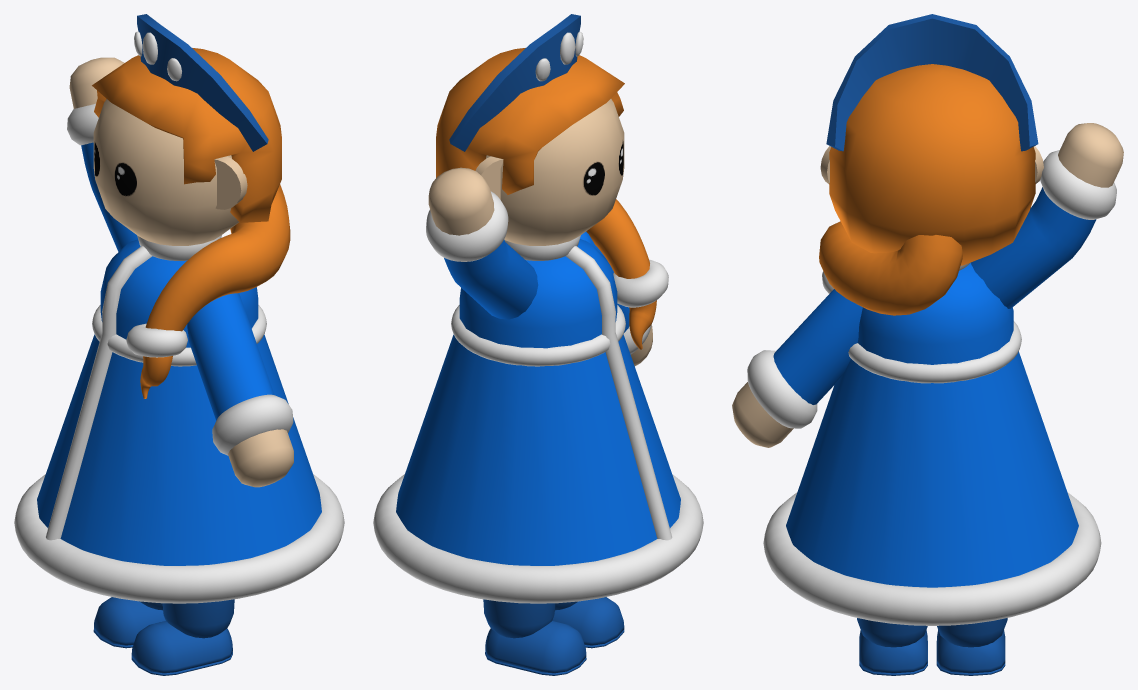
The picture shows the model from 3 angles, left to right: view 1: azimuth 30°, elevation 25°; view 2: azimuth 150°, elevation 25°; view 3: azimuth 270°, elevation 25°; orthographic projection. The views are drawn at different scales.
Visible parts, largest first — view 1: Цилиндр.019, Torus.006, Цилиндр.055, Цилиндр.004, Цилиндр.005, Цилиндр.065, Куб.001, Цилиндр.062, Цилиндр.002, Цилиндр.064, Torus.007, Цилиндр.105 (+7 smaller); view 2: Цилиндр.019, Torus.006, Цилиндр.055, Цилиндр.004, Цилиндр.002, Цилиндр.105, Куб.001, Цилиндр.062, Цилиндр.009, Цилиндр.065, Torus.010, Torus.008 (+6 smaller); view 3: Цилиндр.019, Цилиндр.055, Torus.006, Куб.001, Цилиндр.105, Цилиндр.002, Цилиндр.065, Цилиндр.005, Torus.010, Torus.007, Torus.008, Цилиндр.009 (+3 smaller).
Part boxes in pixels (x1,y1,x2,y2): Цилиндр.019: [37, 334, 321, 565]; Torus.006: [14, 474, 344, 603]; Цилиндр.055: [92, 48, 281, 222]; Цилиндр.004: [93, 99, 238, 245]; Цилиндр.005: [187, 293, 293, 487]; Цилиндр.065: [140, 184, 290, 398]; Куб.001: [137, 14, 268, 151]; Цилиндр.062: [46, 246, 152, 540]; Цилиндр.002: [100, 239, 258, 347]; Цилиндр.064: [131, 621, 232, 675]; Torus.007: [212, 394, 293, 455]; Цилиндр.105: [69, 57, 137, 251]; Цилиндр.019: [396, 334, 680, 565]; Torus.006: [373, 474, 703, 603]; Цилиндр.055: [436, 48, 624, 194]; Цилиндр.004: [486, 99, 624, 245]; Цилиндр.002: [459, 239, 617, 348]; Цилиндр.105: [428, 167, 538, 319]; Куб.001: [449, 14, 580, 151]; Цилиндр.062: [565, 246, 672, 540]; Цилиндр.009: [485, 621, 586, 675]; Цилиндр.065: [586, 199, 656, 349]; Torus.010: [451, 305, 625, 366]; Torus.008: [426, 191, 508, 261]; Цилиндр.019: [786, 351, 1078, 587]; Цилиндр.055: [829, 64, 1035, 265]; Torus.006: [763, 492, 1101, 625]; Куб.001: [826, 14, 1038, 151]; Цилиндр.105: [971, 123, 1123, 308]; Цилиндр.002: [857, 263, 1013, 364]; Цилиндр.065: [819, 221, 962, 315]; Цилиндр.005: [732, 289, 862, 447]; Torus.010: [848, 321, 1021, 383]; Torus.007: [747, 350, 817, 428]; Torus.008: [1040, 150, 1116, 219]; Цилиндр.009: [936, 630, 1005, 675].
Size of the model in its own units: 3.4 by 7.04 by 3.94.
8 materials, 1 textured.
